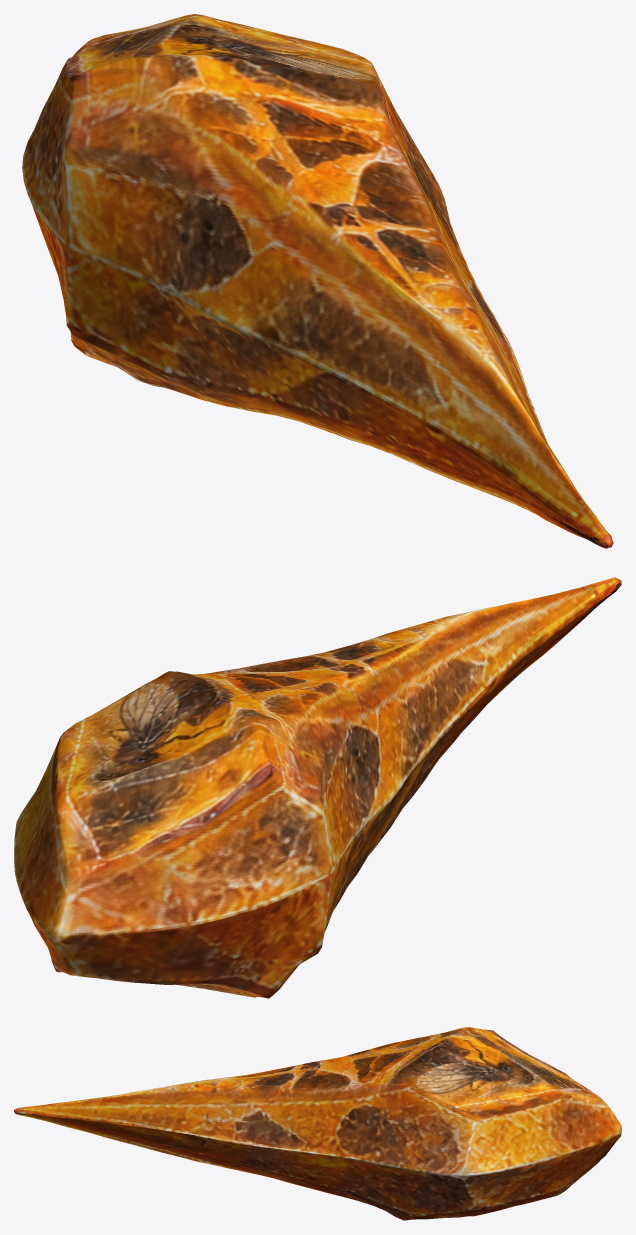
File: item_amber.glb
The picture shows the model from 3 angles, top to bottom: view 1: azimuth 30°, elevation 25°; view 2: azimuth 150°, elevation 25°; view 3: azimuth 270°, elevation 25°; orthographic projection. The views are drawn at different scales.
Visible parts, largest first — view 1: props_amber; view 2: props_amber; view 3: props_amber.
Boxes of the visible parts, x1=… form: props_amber: x1=22, y1=14, x2=613, y2=548; props_amber: x1=14, y1=577, x2=621, y2=998; props_amber: x1=14, y1=1027, x2=621, y2=1220.
Size of the model in its own units: 0.3372 by 0.2978 by 1.
Materials: 1 (1 with a texture image).
